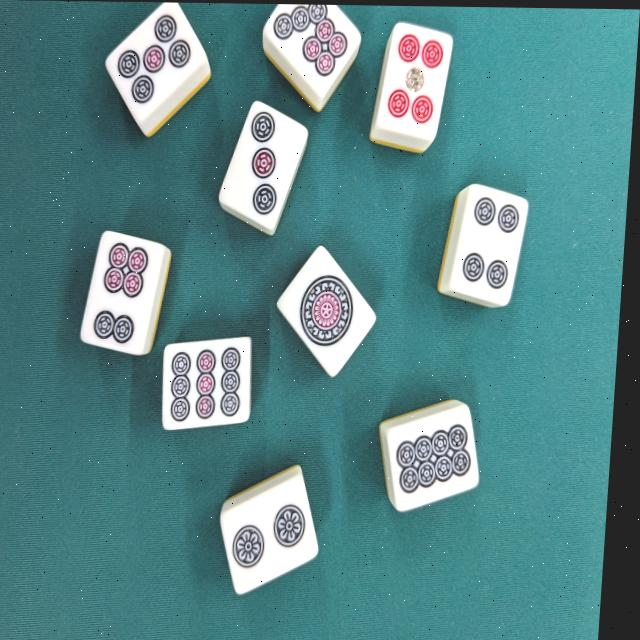1p: (281, 246, 381, 378)
2p: (225, 465, 327, 596)
3p: (219, 101, 312, 237)
4p: (441, 183, 533, 308)
5p: (104, 2, 213, 139)
6p: (84, 231, 176, 359)
7p: (262, 3, 362, 113)
8p: (384, 399, 487, 513)
9p: (166, 336, 259, 434)
D5p: (370, 20, 455, 155)
